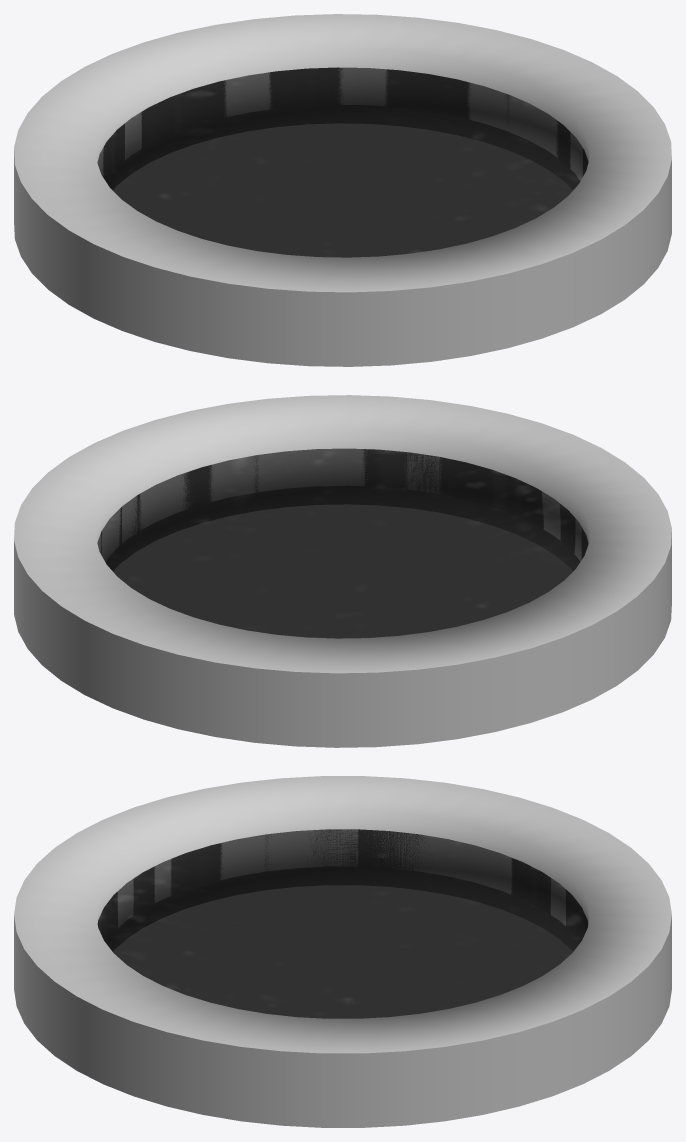
The model's file is glass_hxh_circle.fbx.
3 views of the same model, one above another, from view 1: azimuth 30°, elevation 25°; view 2: azimuth 150°, elevation 25°; view 3: azimuth 270°, elevation 25° (orthographic).
Parts seen in each view (by area): view 1: glass_hxh_circle; view 2: glass_hxh_circle; view 3: glass_hxh_circle.
Part boxes in pixels (x1=…): glass_hxh_circle: x1=14, y1=14, x2=671, y2=366; glass_hxh_circle: x1=14, y1=395, x2=671, y2=747; glass_hxh_circle: x1=14, y1=776, x2=671, y2=1127.
Size of the model in its own units: 19.98 by 2.5 by 20.03.
